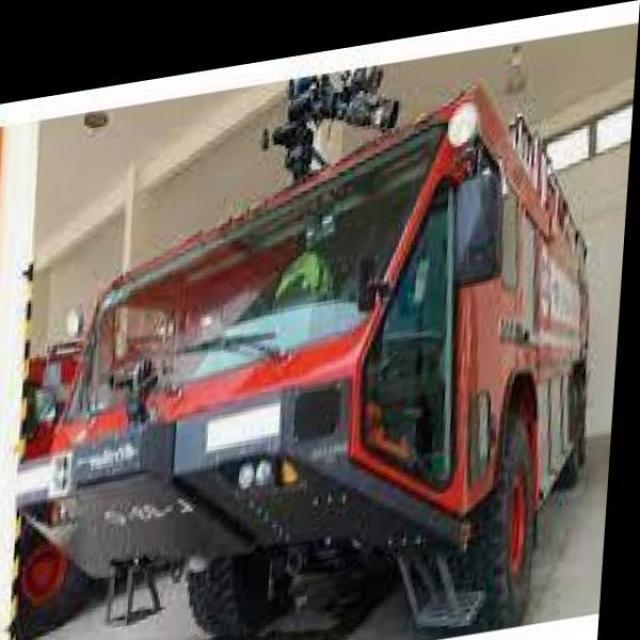emergency: (12, 76, 592, 636)
